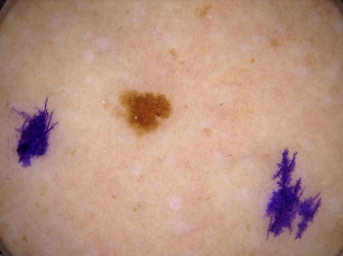melanoma: (120, 91, 172, 132)
